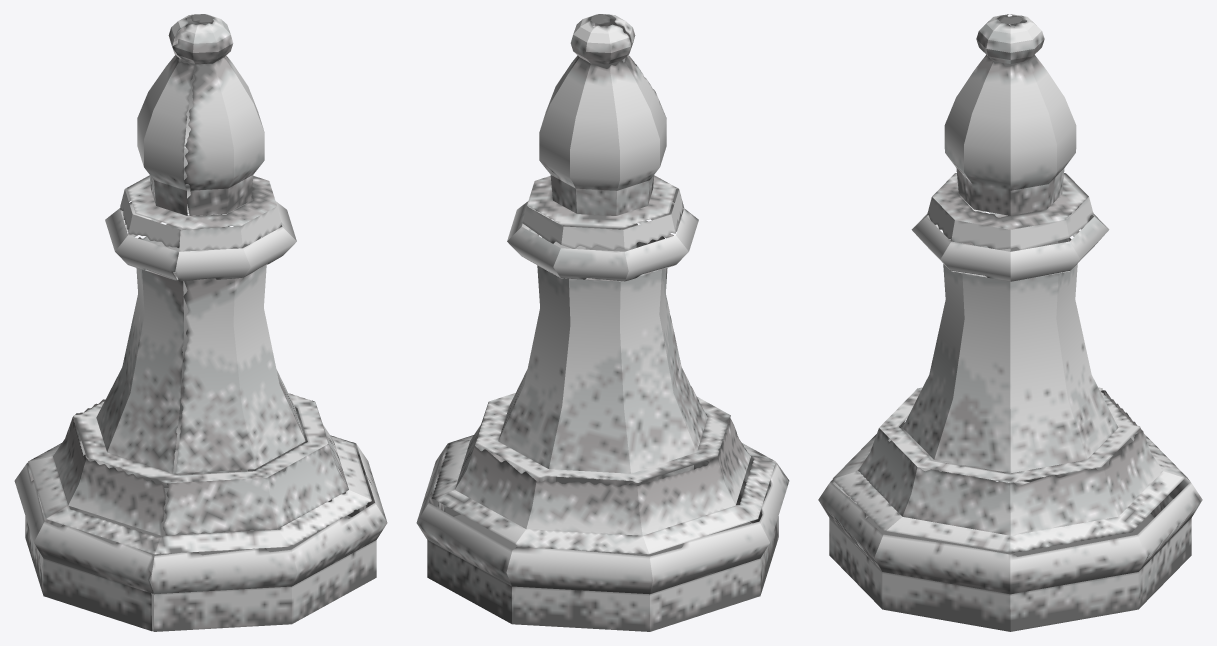
The model's file is Alfil_Pieza.fbx.
The picture shows the model from 3 angles, left to right: view 1: azimuth 30°, elevation 25°; view 2: azimuth 150°, elevation 25°; view 3: azimuth 270°, elevation 25°; orthographic projection.
Parts seen in each view (by area): view 1: Alfil_Pieza; view 2: Alfil_Pieza; view 3: Alfil_Pieza.
Part boxes in pixels (left/top/right/bottom): Alfil_Pieza: left=14, top=14, right=387, bottom=631; Alfil_Pieza: left=416, top=14, right=789, bottom=631; Alfil_Pieza: left=818, top=14, right=1202, bottom=631.
Size of the model in its own units: 24.77 by 38.12 by 24.77.
